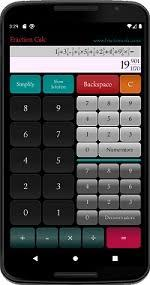Calculator: (5, 46, 147, 252)
